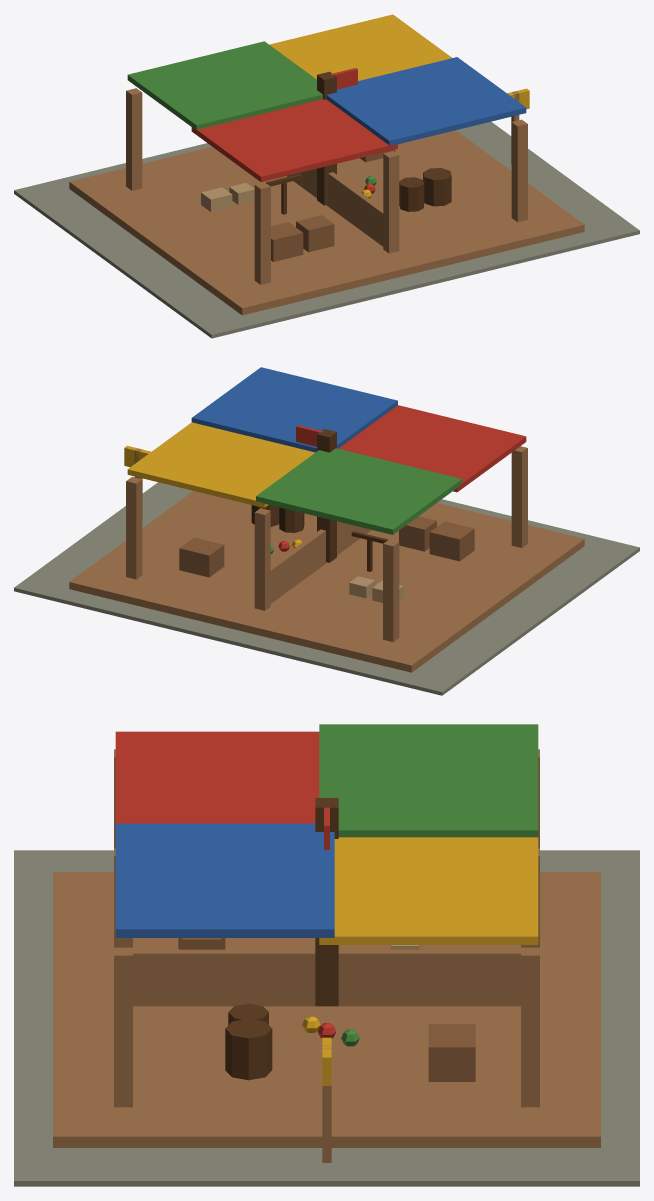
File: market.glb
3 renders of one model, top to bottom at view 1: azimuth 30°, elevation 25°; view 2: azimuth 150°, elevation 25°; view 3: azimuth 270°, elevation 25°, orthographic. The views are drawn at different scales.
Visible parts, largest first — view 1: Platform, Ground, Canopy_FR, Canopy_BL, Canopy_FL, Canopy_BR, Divider1, Post_0, Post_4, Post_1, Post_2, Crate1 (+5 smaller); view 2: Platform, Ground, Canopy_BL, Canopy_FR, Canopy_BR, Canopy_FL, Divider2, Post_1, Post_5, Post_3, Post_0, Crate1 (+4 smaller); view 3: Platform, Ground, Canopy_FR, Canopy_BL, Canopy_BR, Canopy_FL, Divider1, Divider2, Post_2, Post_3, Crate3, Barrel1 (+2 smaller).
Boxes of the visible parts, x1,y1,x2,y2 form: Platform: [69, 130, 584, 315]; Ground: [14, 121, 639, 338]; Canopy_FR: [326, 57, 526, 146]; Canopy_BL: [127, 41, 322, 129]; Canopy_FL: [191, 99, 397, 181]; Canopy_BR: [269, 14, 451, 80]; Divider1: [312, 168, 383, 246]; Post_0: [254, 182, 270, 284]; Post_4: [383, 151, 399, 253]; Post_1: [126, 88, 142, 190]; Post_2: [511, 119, 527, 222]; Crate1: [271, 222, 303, 261]; Platform: [69, 491, 584, 672]; Ground: [14, 482, 639, 695]; Canopy_BL: [256, 448, 462, 534]; Canopy_FR: [191, 367, 397, 452]; Canopy_BR: [127, 422, 315, 507]; Canopy_FL: [338, 405, 526, 492]; Divider2: [270, 521, 341, 603]; Post_1: [383, 539, 399, 642]; Post_5: [254, 508, 270, 610]; Post_3: [126, 477, 142, 579]; Post_0: [511, 446, 527, 547]; Crate1: [429, 521, 474, 561]; Platform: [53, 872, 600, 1147]; Ground: [14, 850, 639, 1186]; Canopy_FR: [115, 823, 334, 937]; Canopy_BL: [319, 724, 538, 837]; Canopy_BR: [319, 837, 538, 944]; Canopy_FL: [115, 731, 319, 823]; Divider1: [133, 949, 365, 1006]; Divider2: [288, 949, 520, 1006]; Post_2: [114, 947, 132, 1107]; Post_3: [521, 947, 539, 1107]; Crate3: [428, 1024, 475, 1081]; Barrel1: [225, 1018, 272, 1080].
Size of the model in its own units: 5 by 1.54 by 4.
